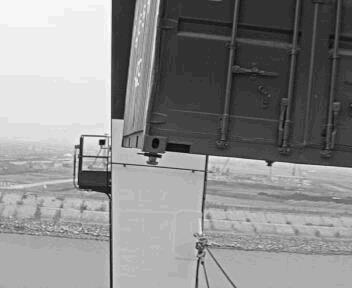twist_lock_1: (137, 149, 167, 170)
